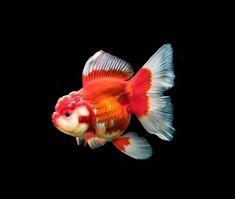goldfish: (46, 64, 184, 160)
